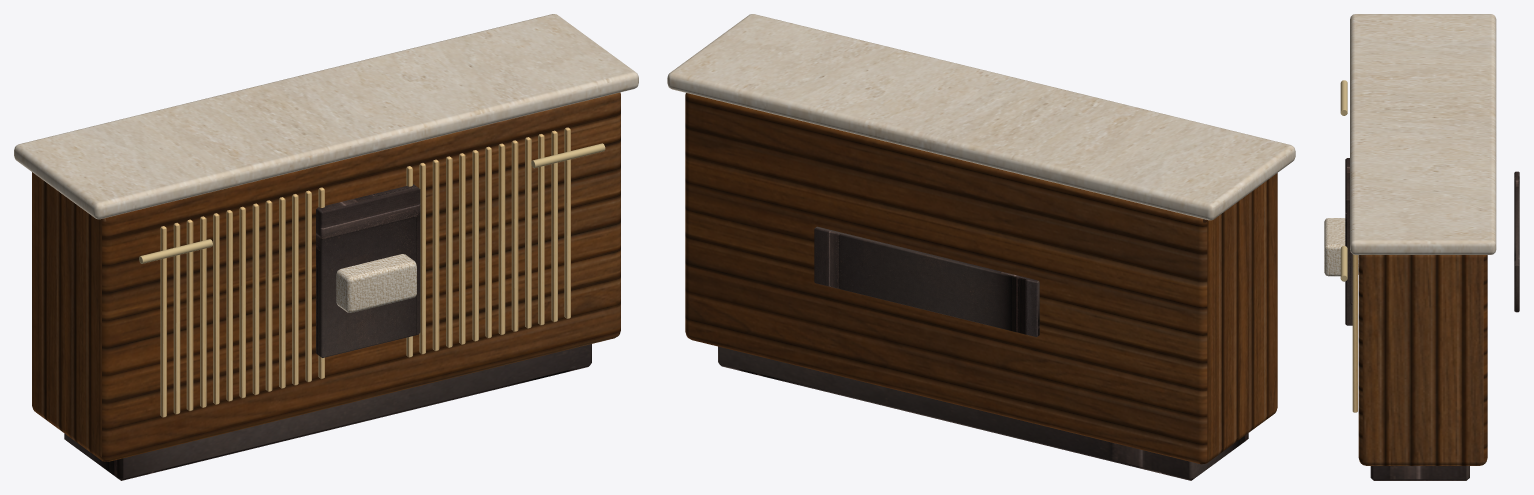
File: hp_furniture_residential_fluted_sideboard_v1.glb
3 renders of one model, left to right at view 1: azimuth 30°, elevation 25°; view 2: azimuth 150°, elevation 25°; view 3: azimuth 270°, elevation 25°, orthographic. The views are drawn at different scales.
Parts seen in each view (by area): view 1: long_walnut_sideboard_body, warm_stone_display_slab_top, open_center_shadowed_niche, recessed_black_toe_shadow, niche_folded_ivory_towels, sideboard_left_door_vertical_flute_08, sideboard_right_door_vertical_flute_08, sideboard_left_door_vertical_flute_07, sideboard_right_door_vertical_flute_02, sideboard_right_door_vertical_flute_07, sideboard_left_door_vertical_flute_01, sideboard_left_door_vertical_flute_02 (+19 smaller); view 2: long_walnut_sideboard_body, warm_stone_display_slab_top, sideboard_rear_hidden_access_plate, recessed_black_toe_shadow; view 3: warm_stone_display_slab_top, long_walnut_sideboard_body, recessed_black_toe_shadow, niche_folded_ivory_towels, open_center_shadowed_niche, sideboard_right_door_vertical_flute_12, sideboard_rear_hidden_access_plate, small_muted_brass_pull.001, small_muted_brass_pull.
Part boxes in pixels (<box>): long_walnut_sideboard_body: <box>32,92,620,461</box>; warm_stone_display_slab_top: <box>14,14,638,219</box>; open_center_shadowed_niche: <box>316,184,420,357</box>; recessed_black_toe_shadow: <box>64,344,591,480</box>; niche_folded_ivory_towels: <box>336,254,416,312</box>; sideboard_left_door_vertical_flute_08: <box>265,200,272,391</box>; sideboard_right_door_vertical_flute_08: <box>511,140,518,331</box>; sideboard_left_door_vertical_flute_07: <box>252,203,259,395</box>; sideboard_right_door_vertical_flute_02: <box>432,159,439,351</box>; sideboard_right_door_vertical_flute_07: <box>498,143,505,334</box>; sideboard_left_door_vertical_flute_01: <box>173,222,180,414</box>; sideboard_left_door_vertical_flute_02: <box>186,219,193,411</box>; long_walnut_sideboard_body: <box>685,93,1277,464</box>; warm_stone_display_slab_top: <box>667,14,1295,220</box>; sideboard_rear_hidden_access_plate: <box>814,226,1039,337</box>; recessed_black_toe_shadow: <box>718,346,1248,480</box>; warm_stone_display_slab_top: <box>1350,14,1496,254</box>; long_walnut_sideboard_body: <box>1358,255,1487,465</box>; recessed_black_toe_shadow: <box>1370,466,1469,480</box>; niche_folded_ivory_towels: <box>1324,218,1358,276</box>; open_center_shadowed_niche: <box>1345,158,1352,325</box>; sideboard_right_door_vertical_flute_12: <box>1352,254,1357,412</box>; sideboard_rear_hidden_access_plate: <box>1514,171,1519,312</box>; small_muted_brass_pull.001: <box>1340,246,1347,281</box>; small_muted_brass_pull: <box>1340,80,1347,115</box>.
Bounding box in the file's own units: 1.86 × 0.9625 × 0.668.
6 materials, 5 textured.
